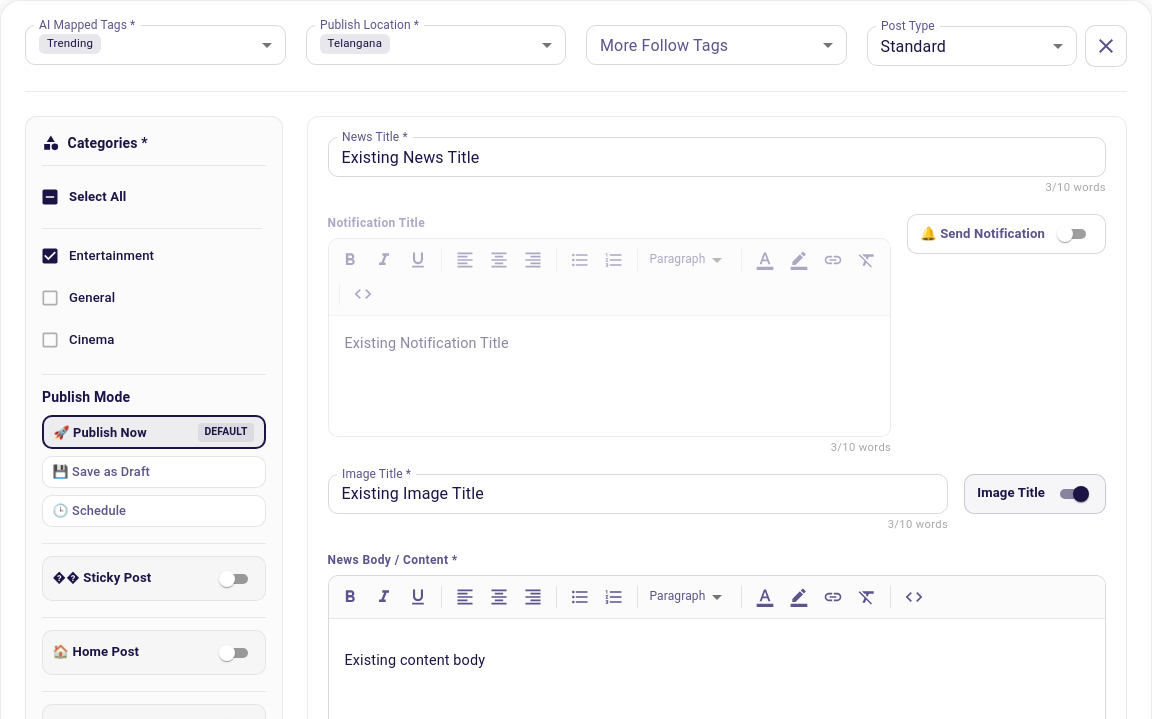
Test: CreateNewsForm component › should display pre-selected AI tags when mounted with initialData in edit mode
The width and height of the screenshot is (1152, 719).
Press the mouse on the dropdown named "AI Mapped Tags *" at (70, 44), box [39,34,101,54]
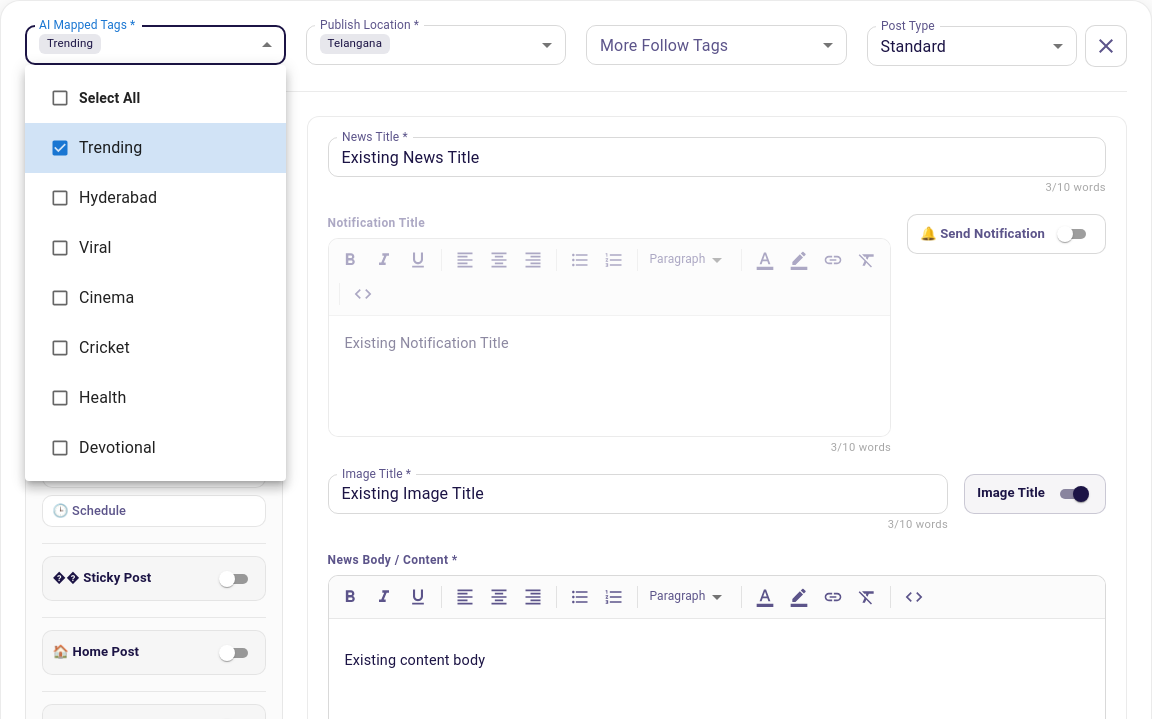
Expected: the option "Trending" is shown, [25,123,286,173]
